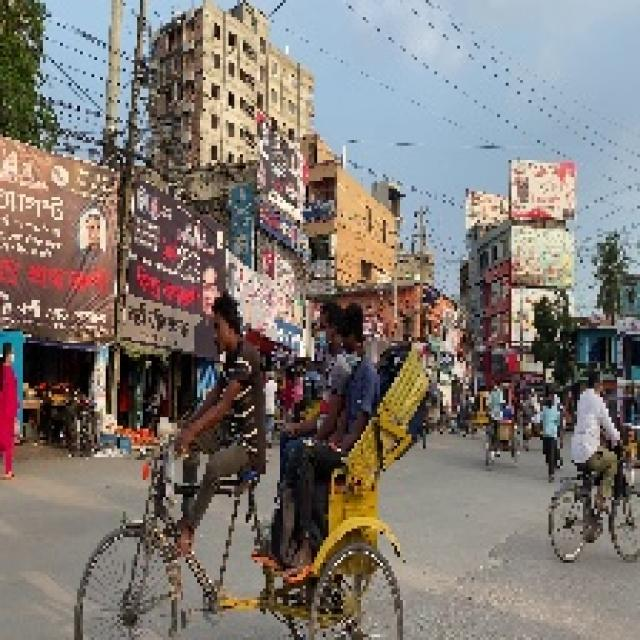rickshaw: (69, 326, 424, 620), (481, 375, 520, 465), (521, 389, 544, 448), (427, 387, 446, 434), (472, 389, 490, 433), (558, 395, 576, 430)
